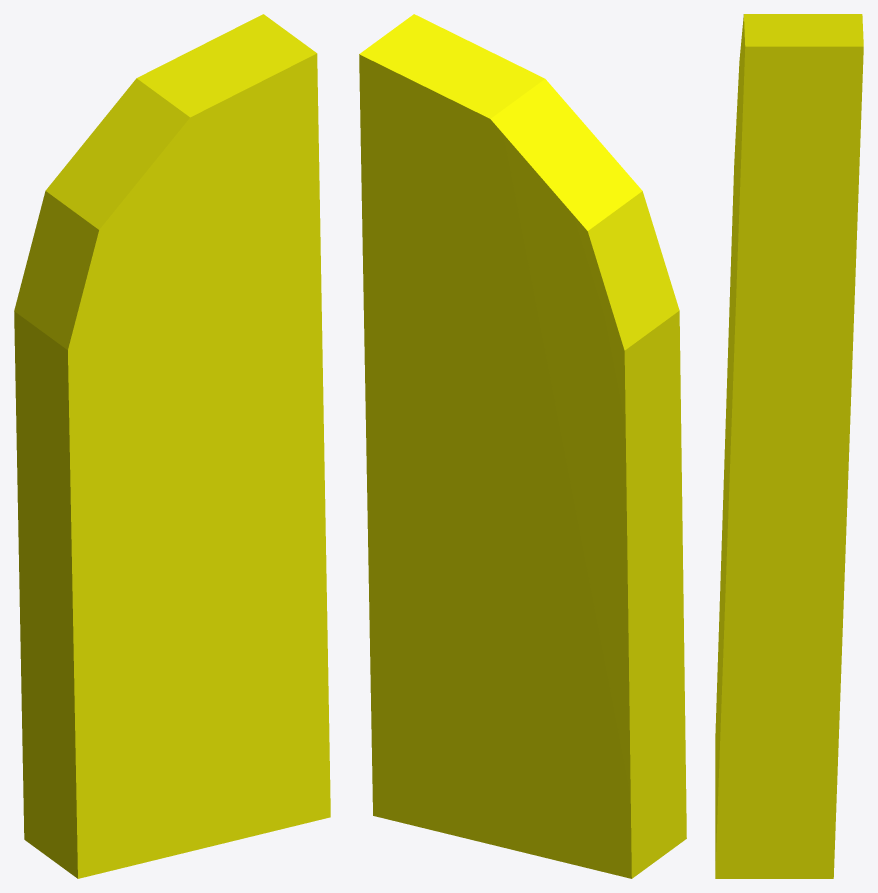
The picture shows the model from 3 angles, left to right: view 1: azimuth 30°, elevation 25°; view 2: azimuth 150°, elevation 25°; view 3: azimuth 270°, elevation 25°; orthographic projection. The views are drawn at different scales.
Parts seen in each view (by area): view 1: door_R; view 2: door_R; view 3: door_R.
Boxes of the visible parts, x1,y1,x2,y2 form: door_R: (14,14,330,878); door_R: (359,14,686,878); door_R: (715,14,863,878).
Bounding box in the file's own units: 0.5592 × 1.58 × 0.2564.
1 material, 1 textured.
